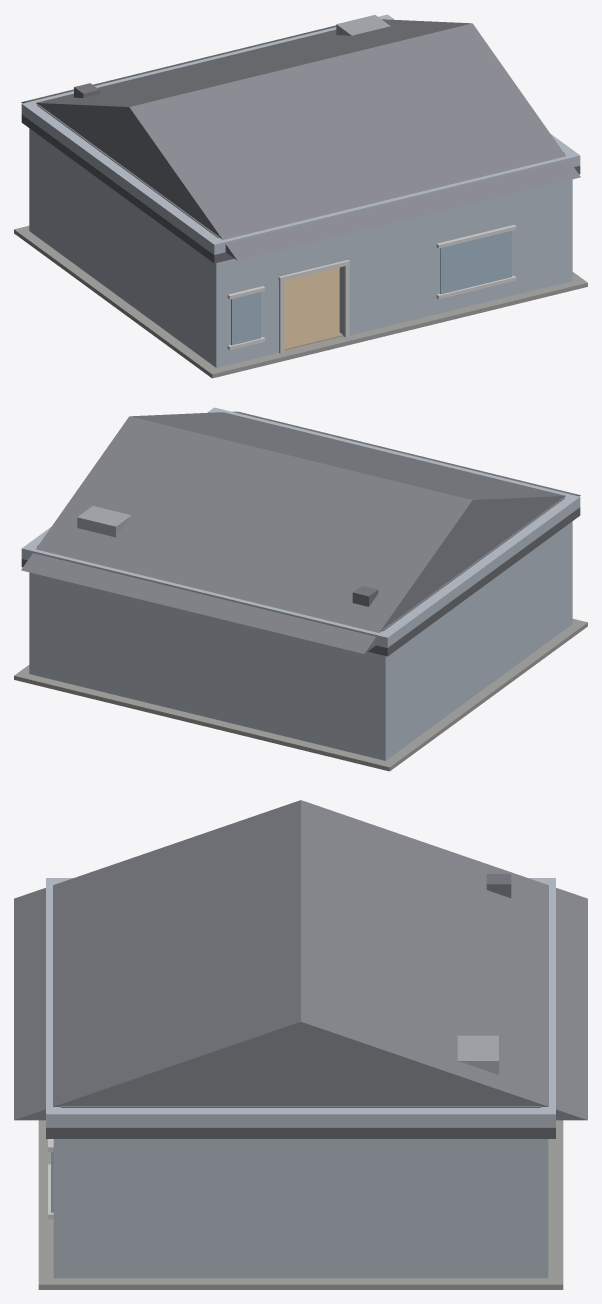
Rendered from Ev_Ic_Mavi.glb.
3 views of the same model, one above another, from view 1: azimuth 30°, elevation 25°; view 2: azimuth 150°, elevation 25°; view 3: azimuth 270°, elevation 25° (orthographic). The views are drawn at different scales.
Parts seen in each view (by area): view 1: Ev_Ic_Mavi; view 2: Ev_Ic_Mavi; view 3: Ev_Ic_Mavi.
Part boxes in pixels (box(x1,y1,x2,y2)): Ev_Ic_Mavi: box(14, 14, 587, 378); Ev_Ic_Mavi: box(14, 407, 587, 771); Ev_Ic_Mavi: box(14, 800, 587, 1289).
Size of the model in its own units: 11.6 by 5.75 by 11.6.
